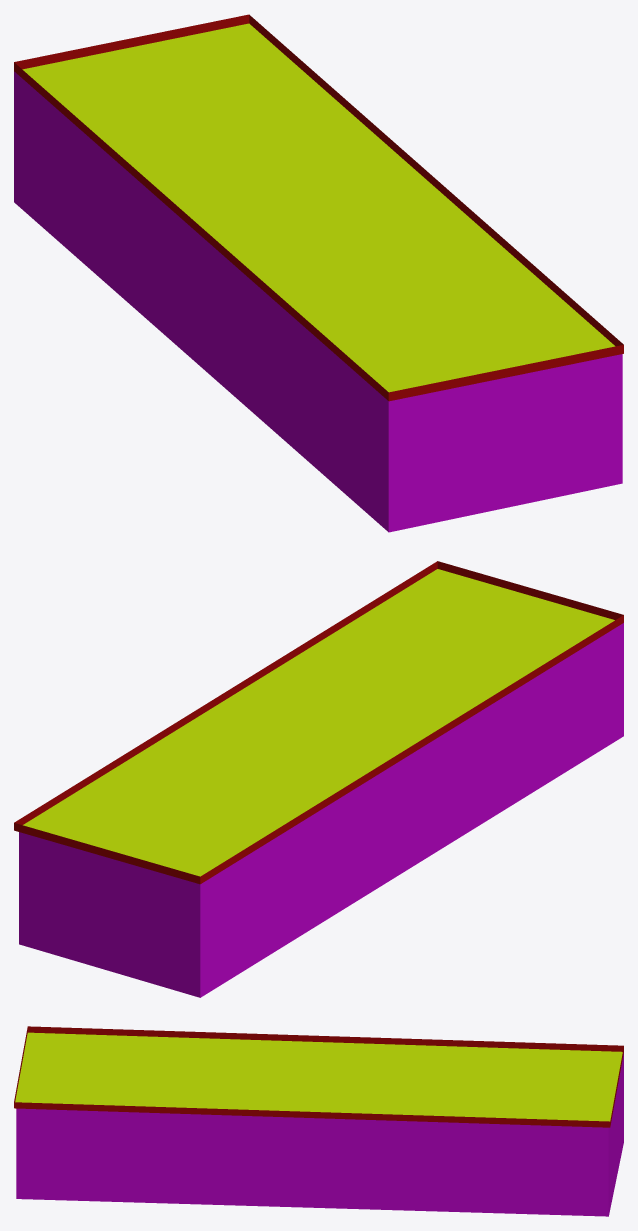
Rendered from fumiere.glb.
3 renders of one model, top to bottom at view 1: azimuth 30°, elevation 25°; view 2: azimuth 150°, elevation 25°; view 3: azimuth 270°, elevation 25°, orthographic. The views are drawn at different scales.
Visible parts, largest first — view 1: fumiere; view 2: fumiere; view 3: fumiere.
Part boxes in pixels (x1,y1,x2,y2): fumiere: (14, 14, 623, 532); fumiere: (14, 561, 623, 997); fumiere: (14, 1026, 623, 1216).
Size of the model in its own units: 11.5 by 5.45 by 31.17.
